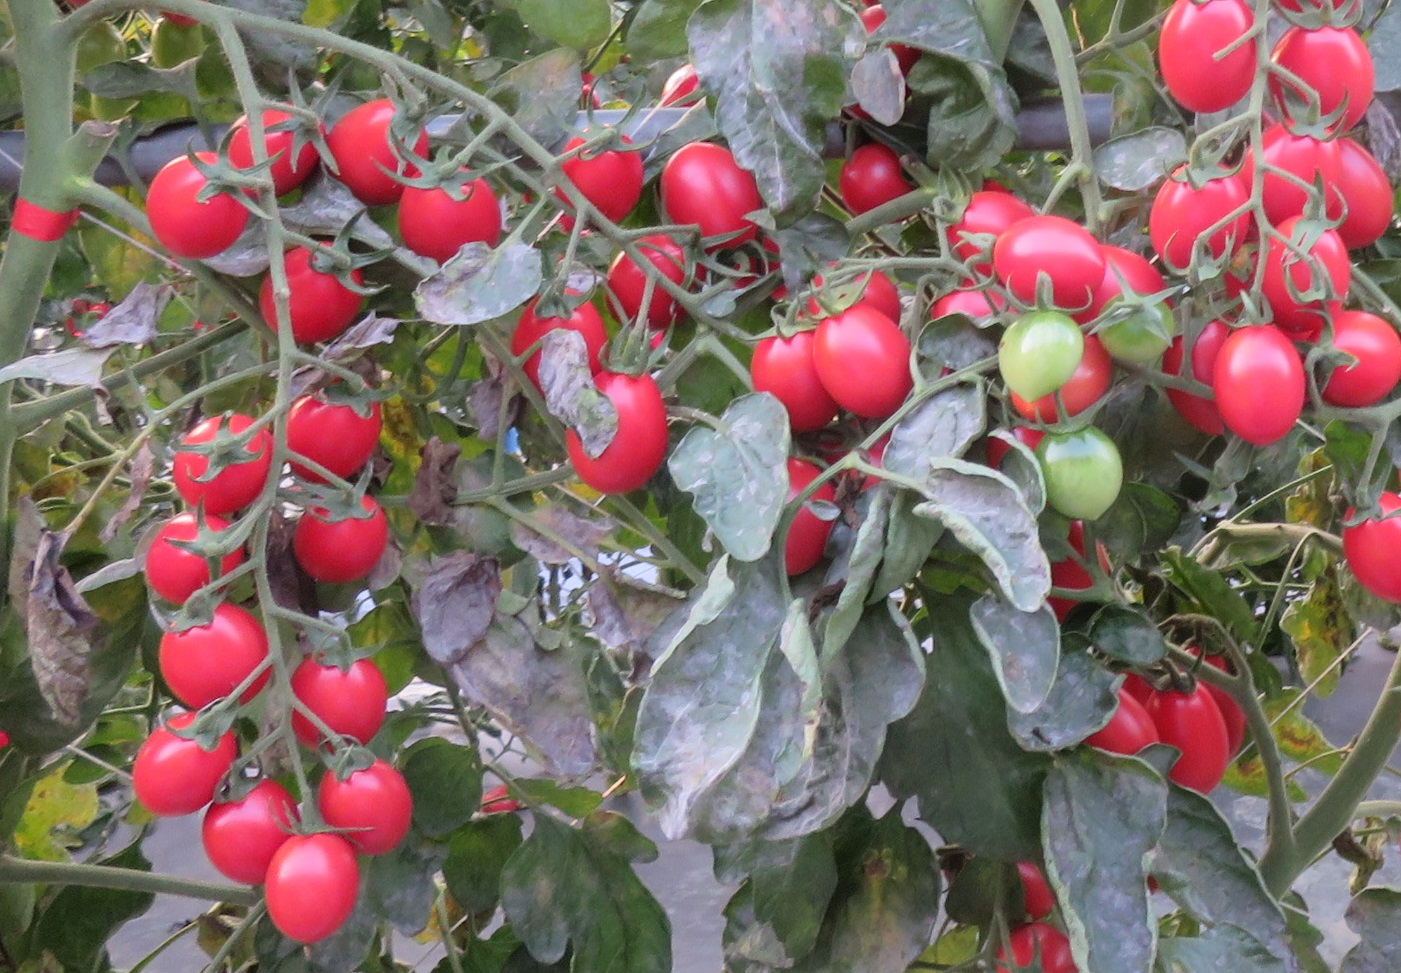green: (1036, 423, 1128, 527), (998, 307, 1082, 403), (1099, 296, 1179, 370)
red: (564, 363, 669, 499), (128, 712, 253, 822), (811, 306, 927, 423), (252, 240, 373, 346), (160, 597, 266, 718), (141, 150, 256, 259), (1217, 321, 1307, 456), (1273, 22, 1379, 133), (170, 407, 276, 517), (263, 827, 362, 944), (1150, 160, 1252, 273), (144, 512, 258, 613), (319, 98, 426, 203), (309, 756, 415, 861), (660, 139, 763, 248), (198, 779, 301, 886), (990, 217, 1111, 307), (287, 650, 390, 756), (217, 100, 324, 200), (1161, 1, 1259, 109), (397, 166, 510, 259), (758, 459, 842, 580), (1248, 120, 1339, 231), (284, 386, 381, 488), (1266, 214, 1349, 331), (1152, 679, 1229, 799), (293, 493, 388, 582), (753, 328, 828, 439), (1311, 316, 1401, 407), (608, 232, 687, 328), (835, 141, 917, 229), (1340, 134, 1401, 251), (1344, 492, 1401, 599), (571, 129, 641, 216), (943, 180, 1013, 260)
